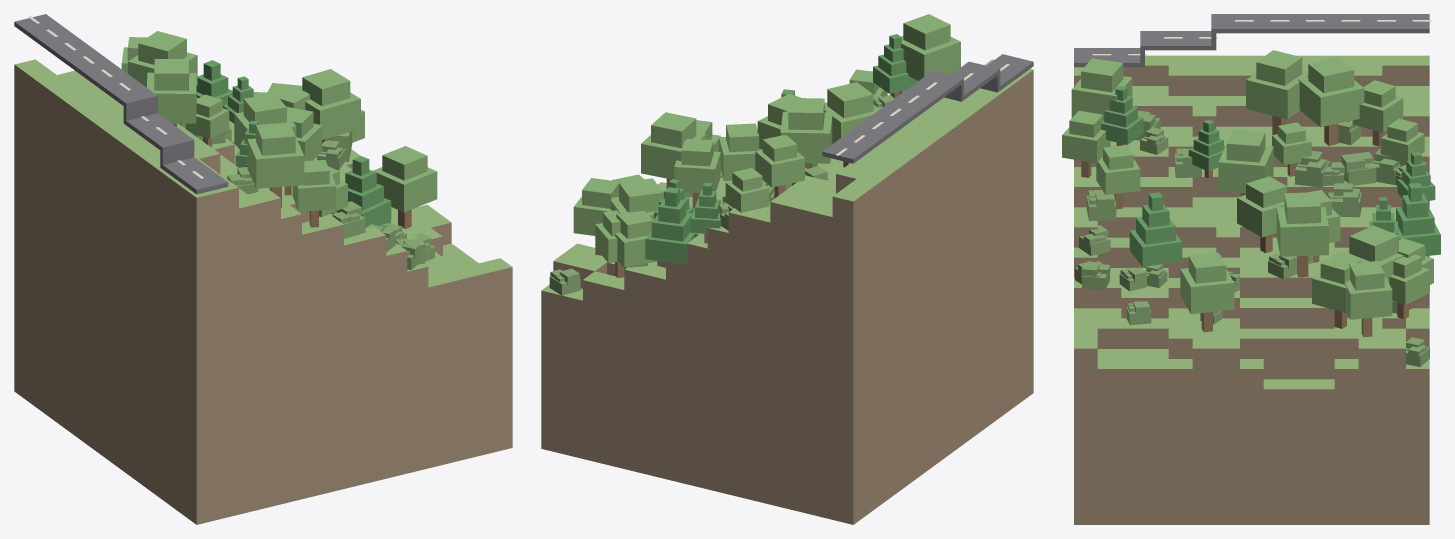
Rendered from block_26_riparian_100.glb.
3 renders of one model, left to right at view 1: azimuth 30°, elevation 25°; view 2: azimuth 150°, elevation 25°; view 3: azimuth 270°, elevation 25°, orthographic. The views are drawn at different scales.
Visible parts, largest first — view 1: Patch_UpperRight_b26_RP, Roads_UpperRight_b26_RP, RP_Veg_26_032, RP_Veg_26_051, RP_Veg_26_014, RP_Veg_26_022, RP_Veg_26_029, RP_Veg_26_047, RP_Veg_26_006, RP_Veg_26_007, RP_Veg_26_036, RP_Veg_26_031 (+4 smaller); view 2: Patch_UpperRight_b26_RP, Roads_UpperRight_b26_RP, RP_Veg_26_032, RP_Veg_26_006, RP_Veg_26_014, RP_Veg_26_003, RP_Veg_26_027, RP_Veg_26_021, RP_Veg_26_022, RP_Veg_26_031, RP_Veg_26_011, RP_Veg_26_018 (+7 smaller); view 3: Patch_UpperRight_b26_RP, Roads_UpperRight_b26_RP, RP_Veg_26_006, RP_Veg_26_014, RP_Veg_26_022, RP_Veg_26_051, RP_Veg_26_007, RP_Veg_26_029, RP_Veg_26_011, RP_Veg_26_032, RP_Veg_26_031, RP_Veg_26_047 (+28 smaller).
Boxes of the visible parts, x1,y1,x2,y2 form: Patch_UpperRight_b26_RP: [14, 59, 512, 524]; Roads_UpperRight_b26_RP: [14, 14, 228, 194]; RP_Veg_26_032: [247, 122, 304, 207]; RP_Veg_26_051: [373, 146, 437, 228]; RP_Veg_26_014: [302, 69, 360, 143]; RP_Veg_26_022: [147, 59, 196, 126]; RP_Veg_26_029: [331, 156, 391, 227]; RP_Veg_26_047: [292, 159, 336, 227]; RP_Veg_26_006: [128, 31, 197, 87]; RP_Veg_26_007: [234, 94, 296, 149]; RP_Veg_26_036: [185, 94, 229, 147]; RP_Veg_26_031: [286, 106, 322, 160]; Patch_UpperRight_b26_RP: [541, 59, 1033, 524]; Roads_UpperRight_b26_RP: [822, 54, 1033, 163]; RP_Veg_26_032: [901, 14, 960, 80]; RP_Veg_26_006: [780, 98, 832, 168]; RP_Veg_26_014: [641, 112, 706, 188]; RP_Veg_26_003: [645, 187, 694, 264]; RP_Veg_26_027: [755, 135, 804, 198]; RP_Veg_26_021: [674, 138, 720, 208]; RP_Veg_26_022: [824, 82, 879, 167]; RP_Veg_26_031: [719, 123, 761, 180]; RP_Veg_26_011: [573, 178, 620, 255]; RP_Veg_26_018: [615, 210, 657, 267]; Patch_UpperRight_b26_RP: [1074, 55, 1429, 524]; Roads_UpperRight_b26_RP: [1074, 14, 1429, 67]; RP_Veg_26_006: [1298, 57, 1364, 145]; RP_Veg_26_014: [1276, 192, 1328, 277]; RP_Veg_26_022: [1246, 50, 1308, 134]; RP_Veg_26_051: [1180, 252, 1234, 332]; RP_Veg_26_007: [1218, 130, 1273, 196]; RP_Veg_26_029: [1129, 192, 1182, 266]; RP_Veg_26_011: [1345, 261, 1392, 337]; RP_Veg_26_032: [1071, 58, 1132, 120]; RP_Veg_26_031: [1237, 176, 1286, 253]; RP_Veg_26_047: [1062, 110, 1110, 177].
Bounding box in the file's own units: 9.5 × 10.65 × 10.12.
